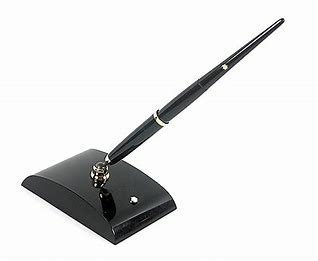pen: (104, 17, 287, 168)
